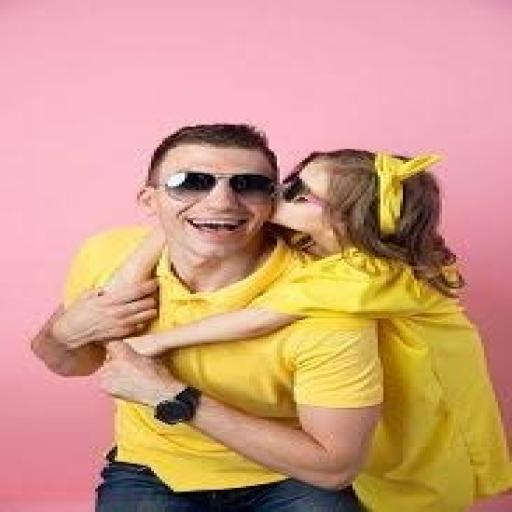hugging: (28, 121, 509, 510)
